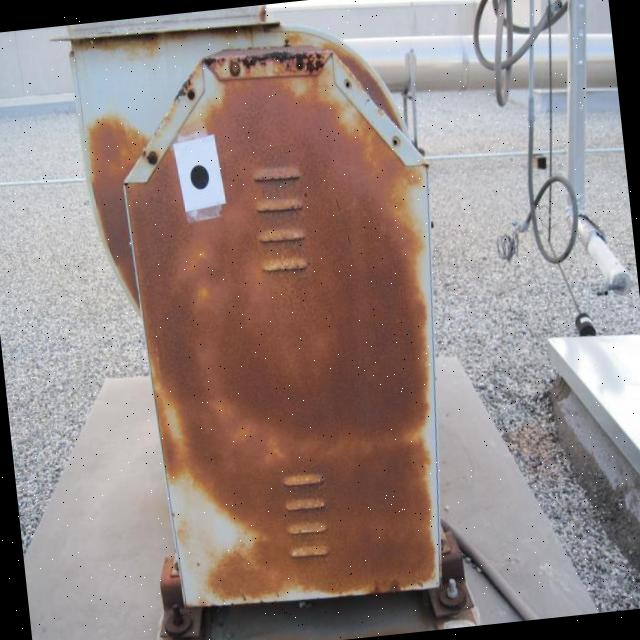Corrosion: (80, 26, 472, 620)
